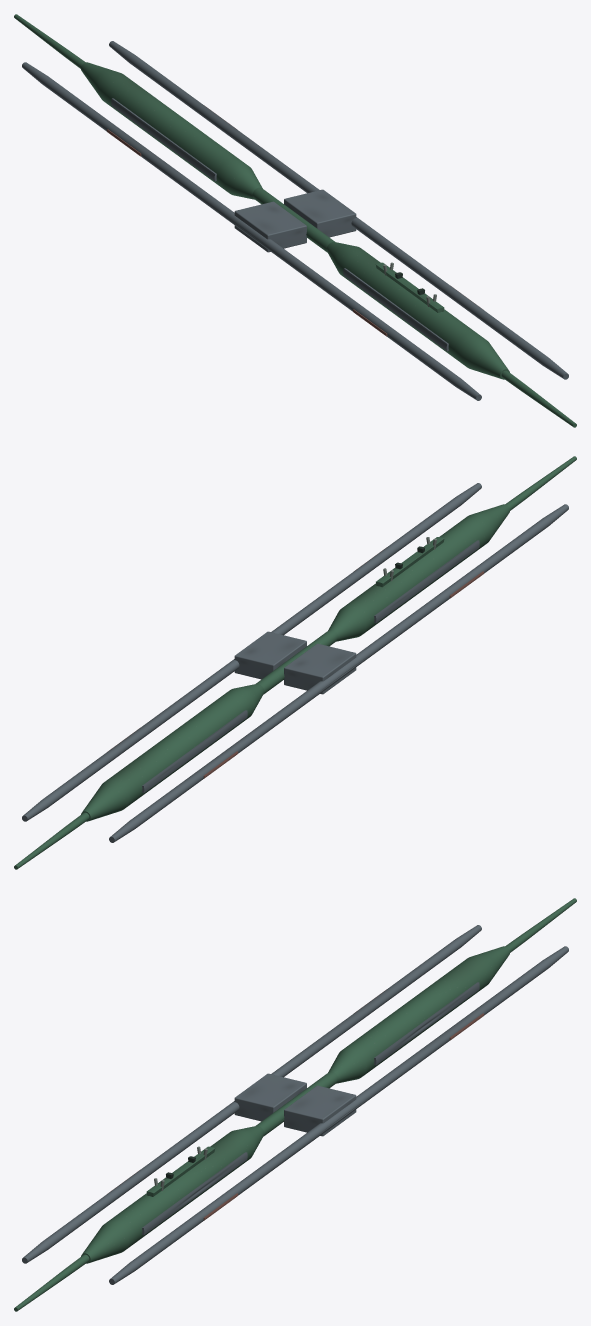
The picture shows the model from 3 angles, top to bottom: view 1: azimuth 30°, elevation 25°; view 2: azimuth 150°, elevation 25°; view 3: azimuth 330°, elevation 25°; orthographic projection.
Parts seen in each view (by area): view 1: Mikotaj Stabiliser green rear section, Mikotaj Stabiliser grey left outer rail, Mikotaj Stabiliser grey right outer rail, Mikotaj Stabiliser green forward section, Mikotaj Stabiliser cross brace -1, Mikotaj Stabiliser green axial spine, Mikotaj Stabiliser cross brace 1, Mikotaj Stabiliser fitted casting 3, Mikotaj Stabiliser fitted casting 1, Mikotaj Stabiliser service cover 0; view 2: Mikotaj Stabiliser green rear section, Mikotaj Stabiliser grey left outer rail, Mikotaj Stabiliser grey right outer rail, Mikotaj Stabiliser green forward section, Mikotaj Stabiliser cross brace -1, Mikotaj Stabiliser green axial spine, Mikotaj Stabiliser cross brace 1, Mikotaj Stabiliser fitted casting 1, Mikotaj Stabiliser fitted casting 3, Mikotaj Stabiliser service cover 0; view 3: Mikotaj Stabiliser green rear section, Mikotaj Stabiliser grey right outer rail, Mikotaj Stabiliser grey left outer rail, Mikotaj Stabiliser green forward section, Mikotaj Stabiliser cross brace 1, Mikotaj Stabiliser green axial spine, Mikotaj Stabiliser cross brace -1, Mikotaj Stabiliser fitted casting 2, Mikotaj Stabiliser fitted casting 0, Mikotaj Stabiliser service cover 0.
Boxes of the visible parts, x1=… form: Mikotaj Stabiliser green rear section: x1=81, y1=62, x2=262, y2=199; Mikotaj Stabiliser grey left outer rail: x1=22, y1=62, x2=481, y2=400; Mikotaj Stabiliser grey right outer rail: x1=109, y1=41, x2=568, y2=379; Mikotaj Stabiliser green forward section: x1=326, y1=242, x2=509, y2=379; Mikotaj Stabiliser cross brace -1: x1=234, y1=201, x2=306, y2=252; Mikotaj Stabiliser green axial spine: x1=14, y1=14, x2=576, y2=427; Mikotaj Stabiliser cross brace 1: x1=284, y1=189, x2=356, y2=237; Mikotaj Stabiliser fitted casting 3: x1=111, y1=98, x2=216, y2=181; Mikotaj Stabiliser fitted casting 1: x1=343, y1=268, x2=448, y2=351; Mikotaj Stabiliser service cover 0: x1=375, y1=262, x2=444, y2=312; Mikotaj Stabiliser green rear section: x1=81, y1=684, x2=264, y2=821; Mikotaj Stabiliser grey left outer rail: x1=109, y1=504, x2=568, y2=842; Mikotaj Stabiliser grey right outer rail: x1=22, y1=483, x2=481, y2=821; Mikotaj Stabiliser green forward section: x1=328, y1=504, x2=509, y2=641; Mikotaj Stabiliser cross brace -1: x1=284, y1=643, x2=356, y2=694; Mikotaj Stabiliser green axial spine: x1=14, y1=456, x2=576, y2=869; Mikotaj Stabiliser cross brace 1: x1=234, y1=631, x2=306, y2=679; Mikotaj Stabiliser fitted casting 1: x1=374, y1=540, x2=479, y2=623; Mikotaj Stabiliser fitted casting 3: x1=142, y1=710, x2=247, y2=793; Mikotaj Stabiliser service cover 0: x1=376, y1=537, x2=444, y2=587; Mikotaj Stabiliser green rear section: x1=328, y1=946, x2=509, y2=1083; Mikotaj Stabiliser grey right outer rail: x1=109, y1=946, x2=568, y2=1284; Mikotaj Stabiliser grey left outer rail: x1=22, y1=925, x2=481, y2=1263; Mikotaj Stabiliser green forward section: x1=81, y1=1126, x2=264, y2=1263; Mikotaj Stabiliser cross brace 1: x1=284, y1=1085, x2=356, y2=1136; Mikotaj Stabiliser green axial spine: x1=14, y1=898, x2=576, y2=1311; Mikotaj Stabiliser cross brace -1: x1=234, y1=1073, x2=306, y2=1121; Mikotaj Stabiliser fitted casting 2: x1=374, y1=982, x2=479, y2=1065; Mikotaj Stabiliser fitted casting 0: x1=142, y1=1152, x2=247, y2=1235; Mikotaj Stabiliser service cover 0: x1=146, y1=1146, x2=215, y2=1196.
Size of the model in its own units: 0.202 by 0.0828 by 2.
Materials: 6 (4 with a texture image).
